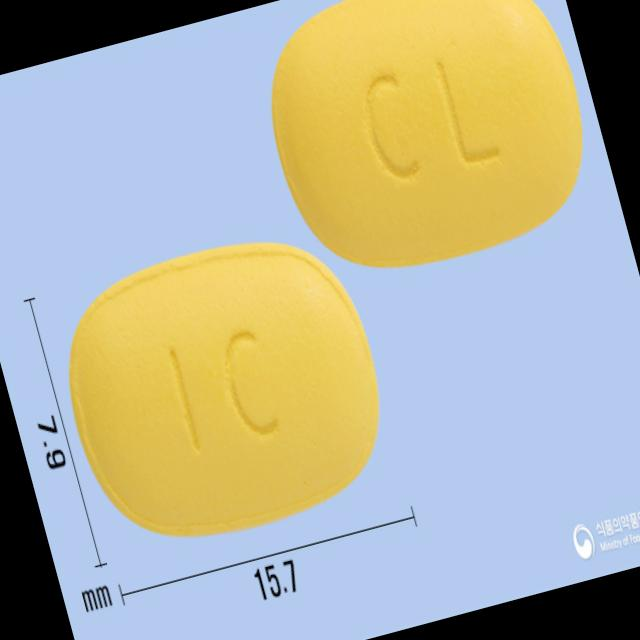Clocin: (38, 212, 407, 566), (243, 0, 610, 294)
